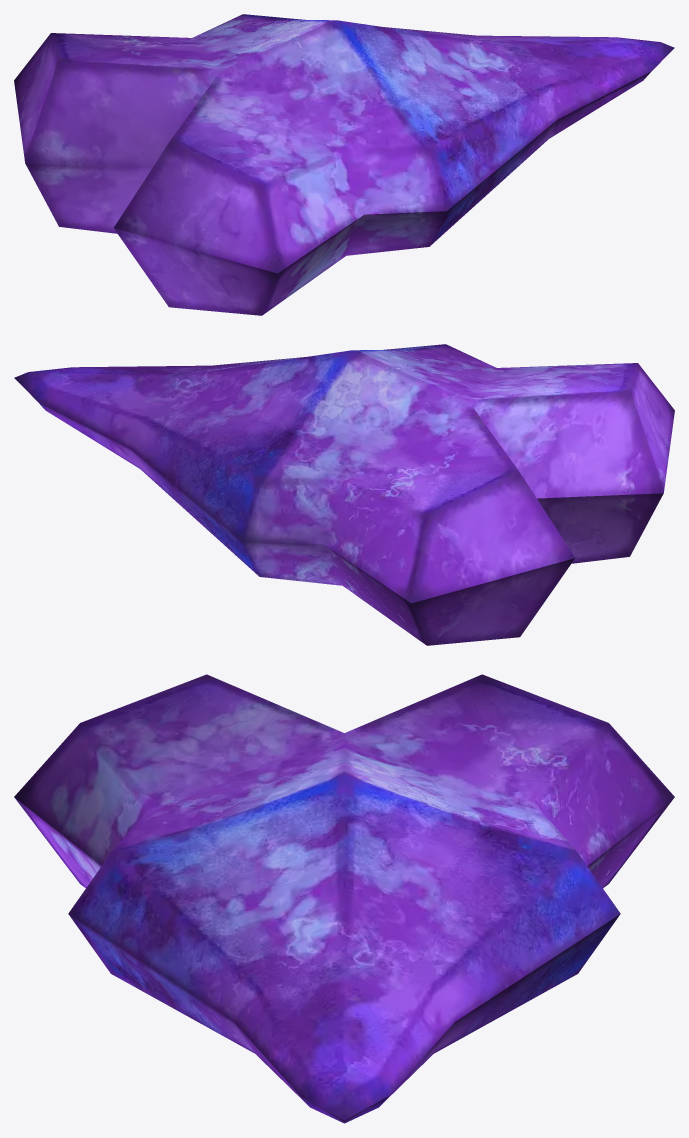
3 renders of one model, top to bottom at view 1: azimuth 30°, elevation 25°; view 2: azimuth 150°, elevation 25°; view 3: azimuth 270°, elevation 25°, orthographic. The views are drawn at different scales.
Parts seen in each view (by area): view 1: SM_CrosbowBolt_Runite_Gem_01_LOD0; view 2: SM_CrosbowBolt_Runite_Gem_01_LOD0; view 3: SM_CrosbowBolt_Runite_Gem_01_LOD0.
Part boxes in pixels (bbox=[...]): SM_CrosbowBolt_Runite_Gem_01_LOD0: bbox=[14, 14, 674, 315]; SM_CrosbowBolt_Runite_Gem_01_LOD0: bbox=[14, 344, 674, 645]; SM_CrosbowBolt_Runite_Gem_01_LOD0: bbox=[14, 674, 674, 1123].
Bounding box in the file's own units: 0.0523 × 0.0182 × 0.0394.
1 material, 1 textured.
